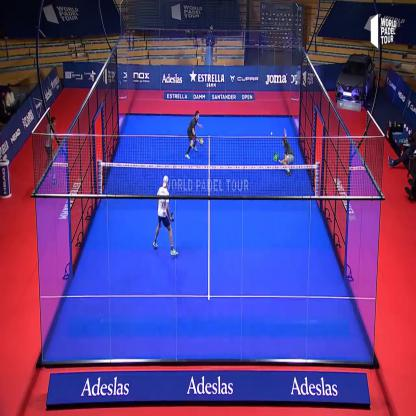ball: (268, 126, 274, 138)
